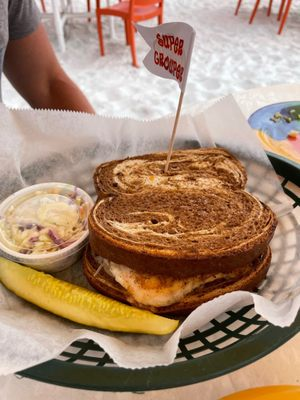pasta: (0, 257, 178, 335)
sushi: (0, 182, 94, 273)
